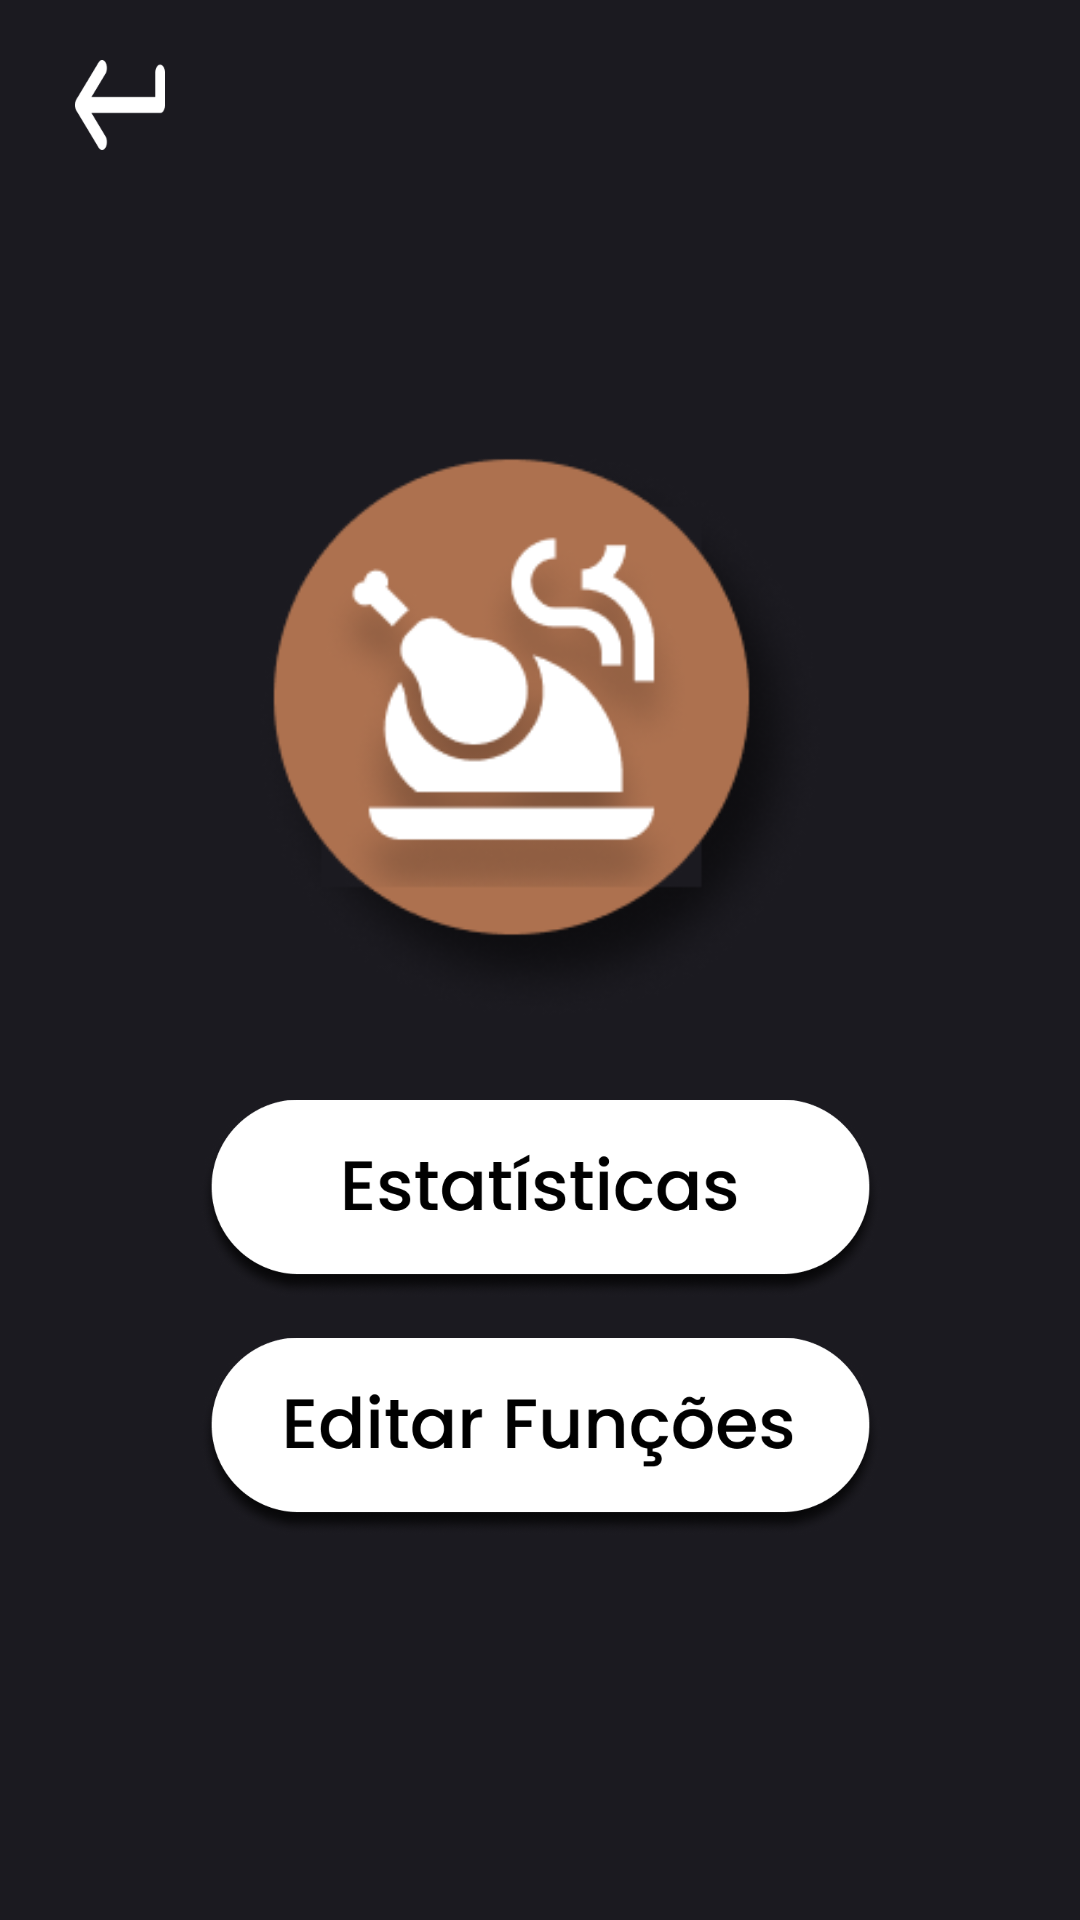

Icon click points for this 1080 × 1920 phone screenshot, format (x,y):
return: (120,105)
